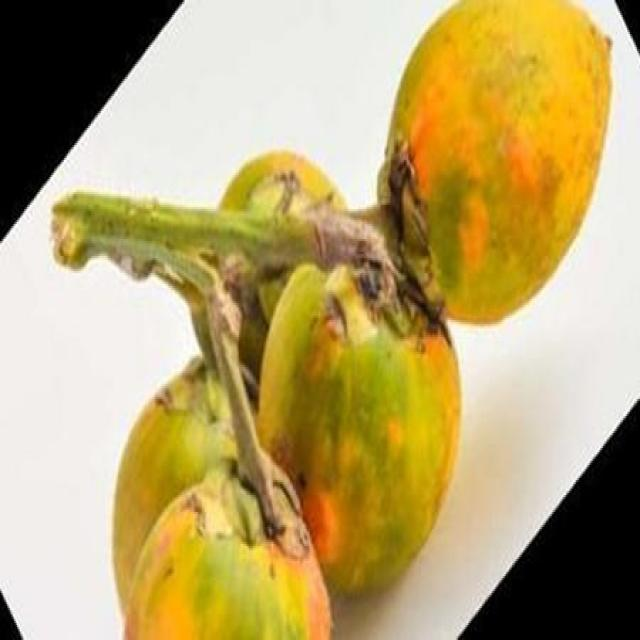good: (182, 162, 462, 602), (378, 0, 614, 329), (112, 333, 333, 638)
